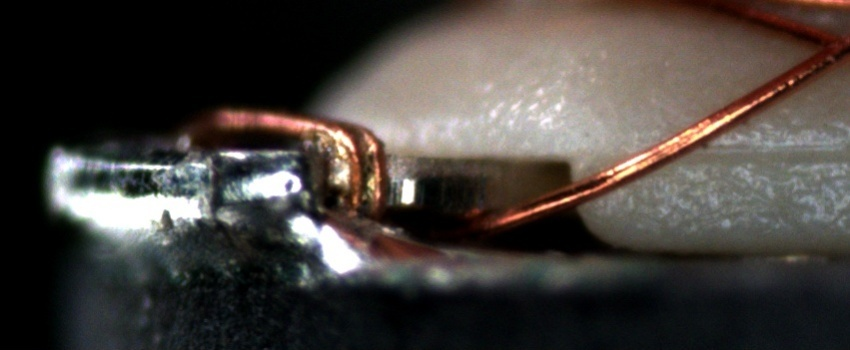CL: (800, 17, 850, 74)
DL: (688, 120, 849, 178)
TE: (201, 106, 390, 234)
